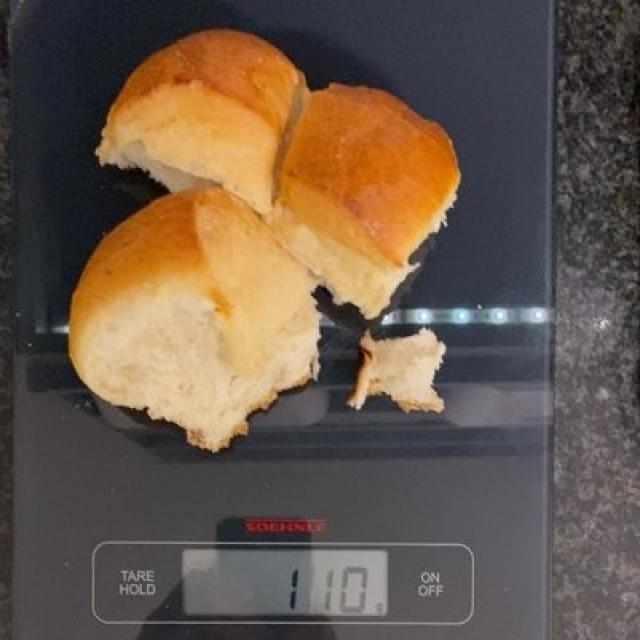bread-white: (71, 31, 456, 444)
